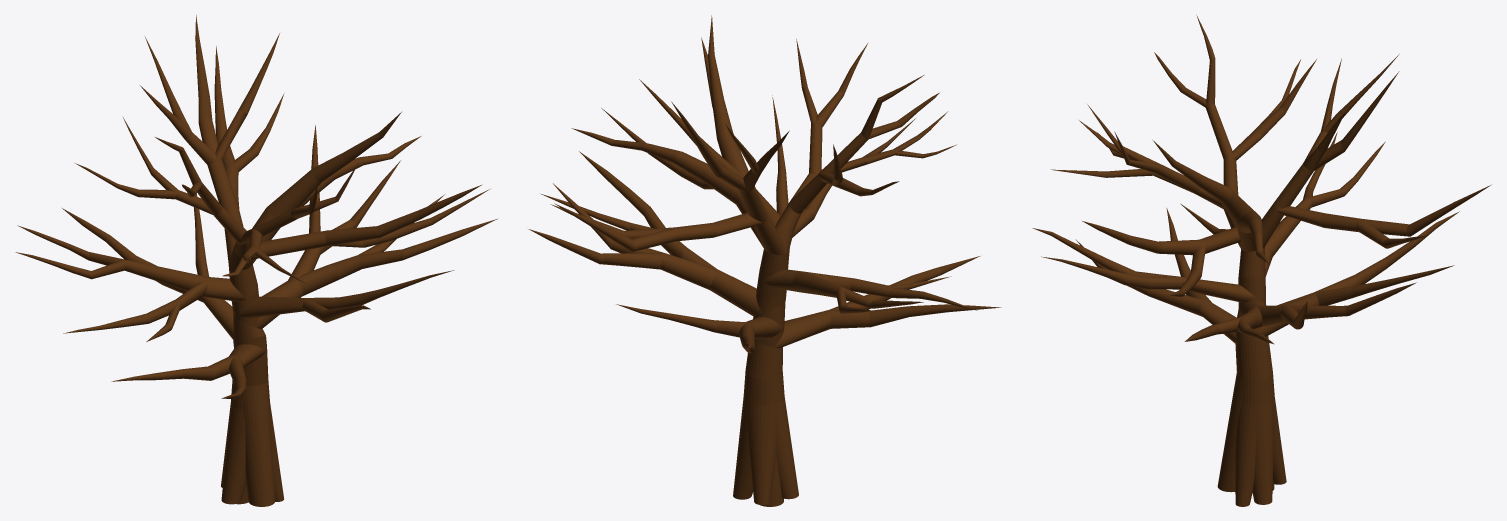
The model's file is Tree.obj.
3 views of the same model, side by side, from view 1: azimuth 30°, elevation 25°; view 2: azimuth 150°, elevation 25°; view 3: azimuth 270°, elevation 25° (orthographic). The views are drawn at different scales.
Visible parts, largest first — view 1: Cone; view 2: Cone; view 3: Cone.
Part boxes in pixels (bbox=[...]): Cone: bbox=[15, 15, 497, 506]; Cone: bbox=[528, 15, 1001, 506]; Cone: bbox=[1032, 15, 1490, 506].
Bounding box in the file's own units: 22.56 × 22.52 × 21.8.
